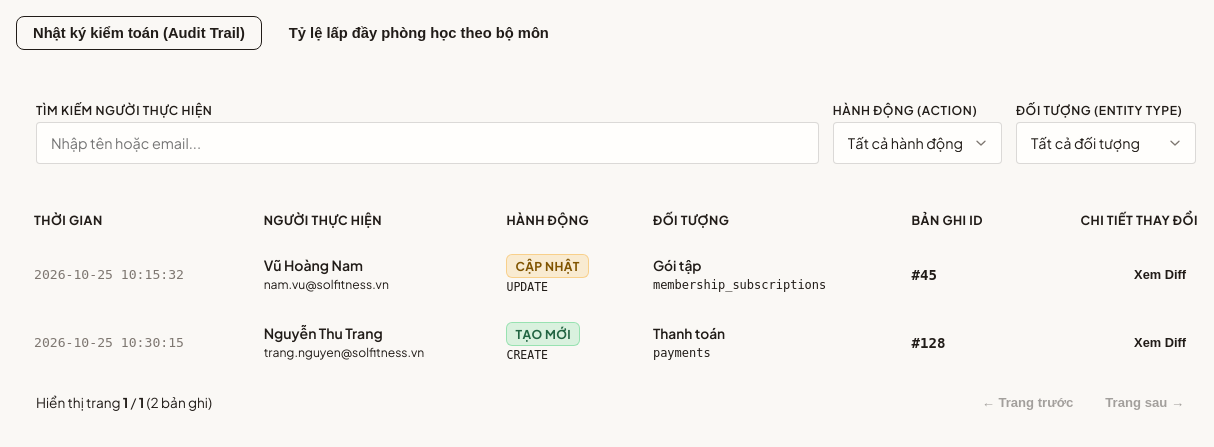
Test: ManagerAuditLogsPage (SCRUM-124: Giám sát Audit Log & Báo cáo Lấp đầy Lớp) › switches to occupancy tab and renders visual occupancy chart (AC 3)
Click the tab "Tỷ lệ lấp đầy phòng học theo bộ môn" at (419, 33), box [272,16,566,50]
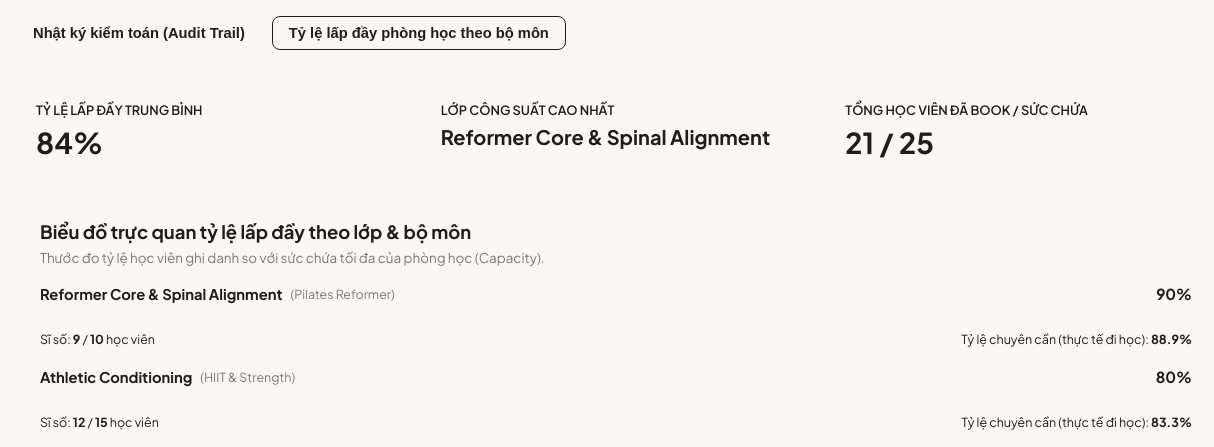
Check: the text "Tỷ lệ lấp đầy trung bình" is shown, box [36,102,202,118]
Check: the text "Reformer Core & Spinal Alignment" is shown, box [441,124,791,150]
Check: the text "90%" is shown, box [1156,284,1192,303]
